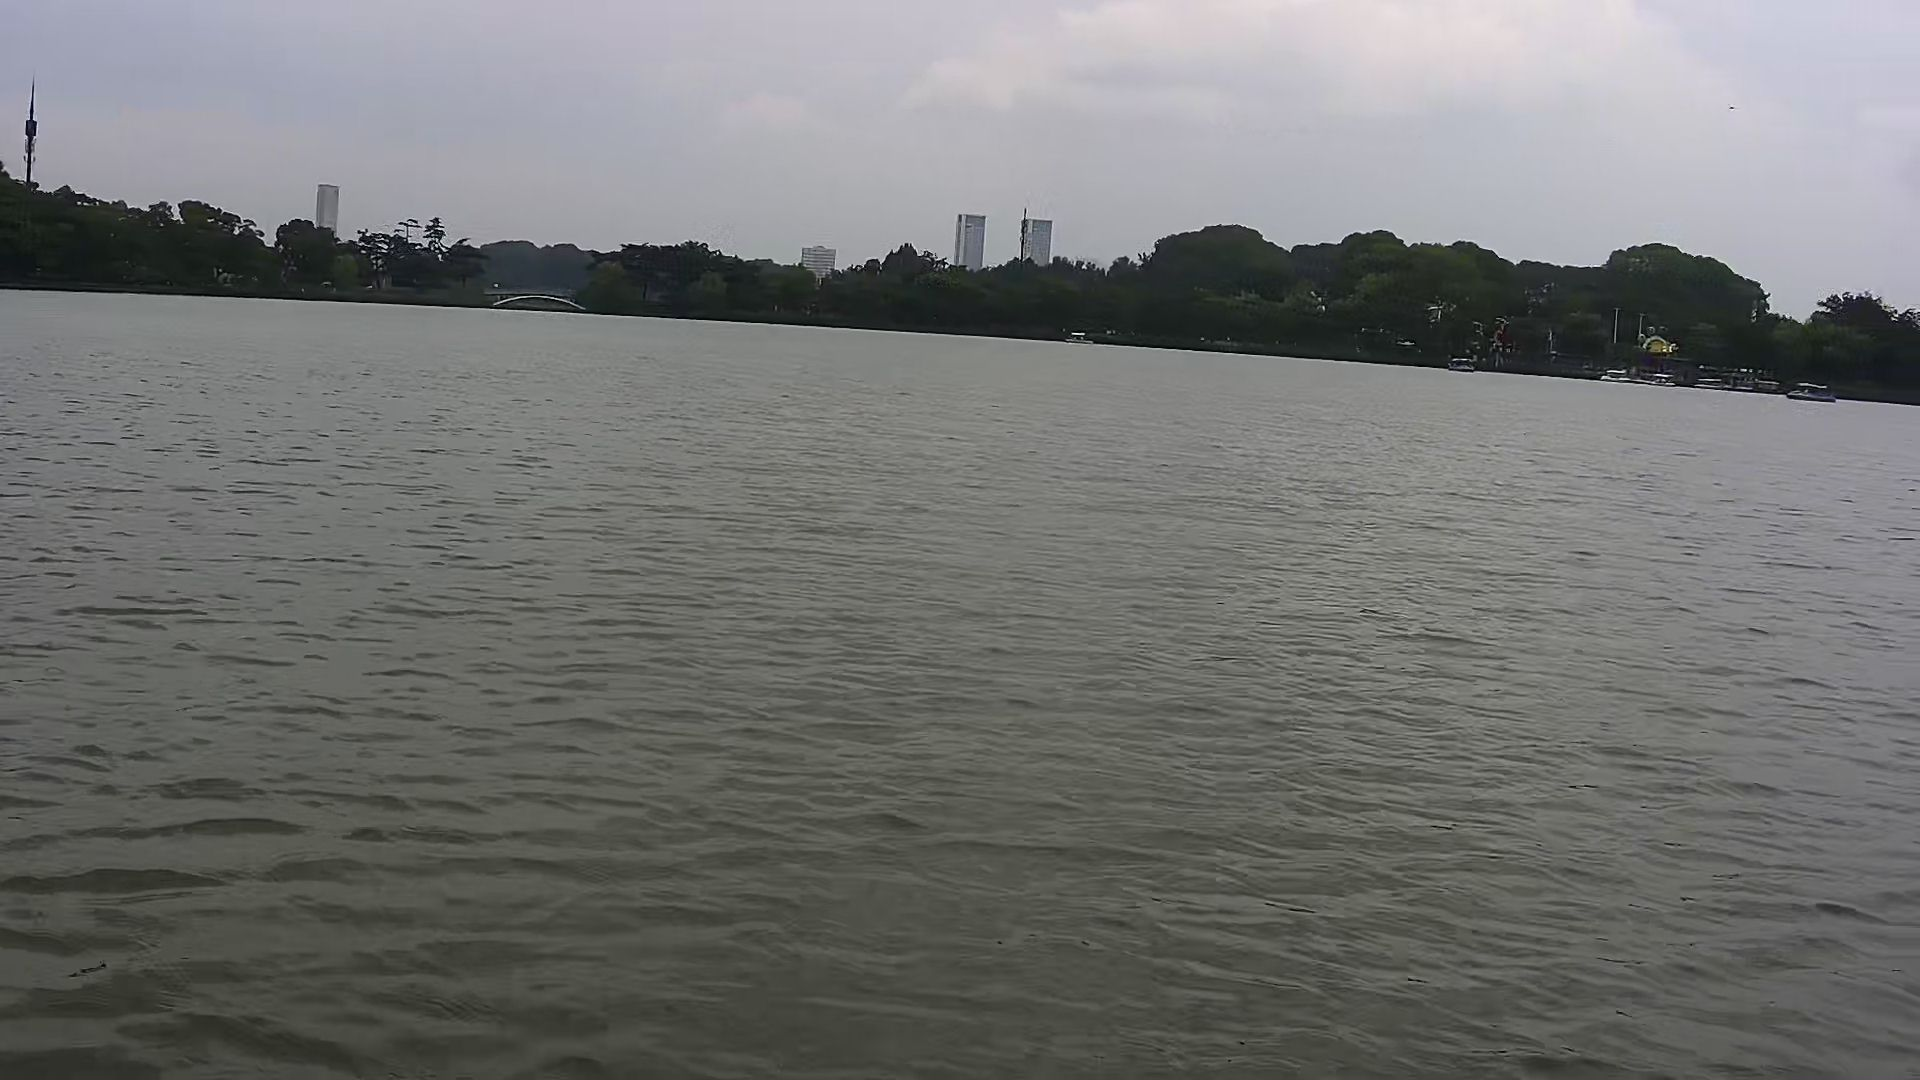boat: (1782, 375, 1841, 404)
bridge: (488, 277, 589, 318)
